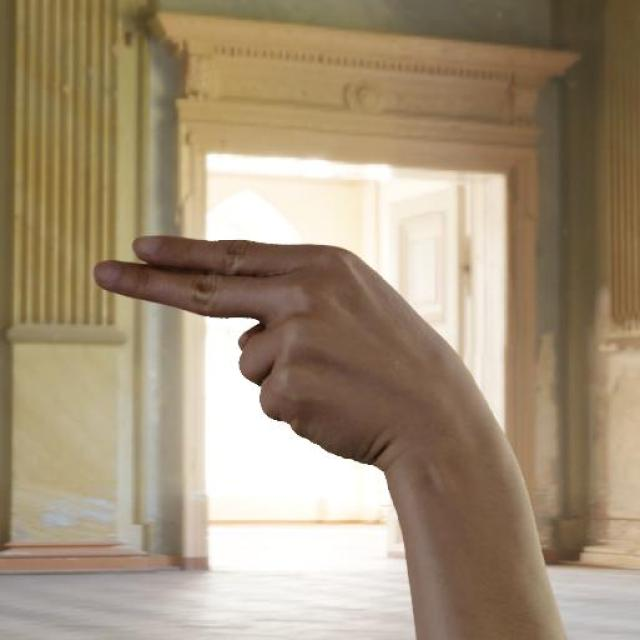H: (90, 237, 503, 476)
